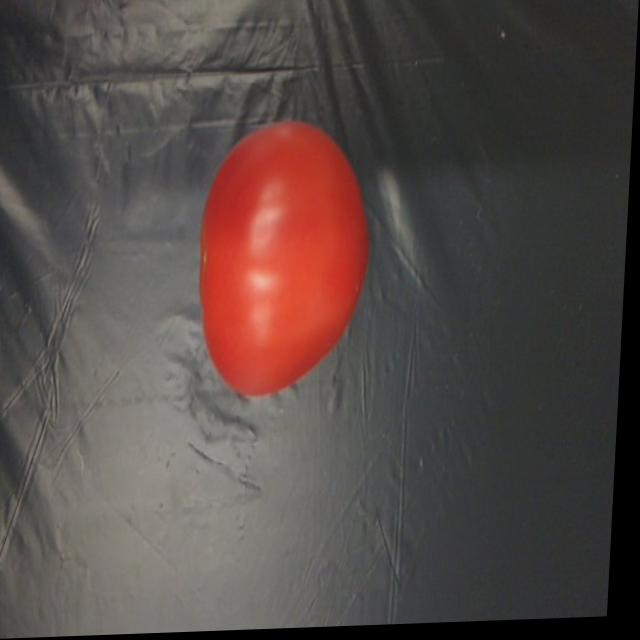kirmizi: (181, 103, 387, 417)
